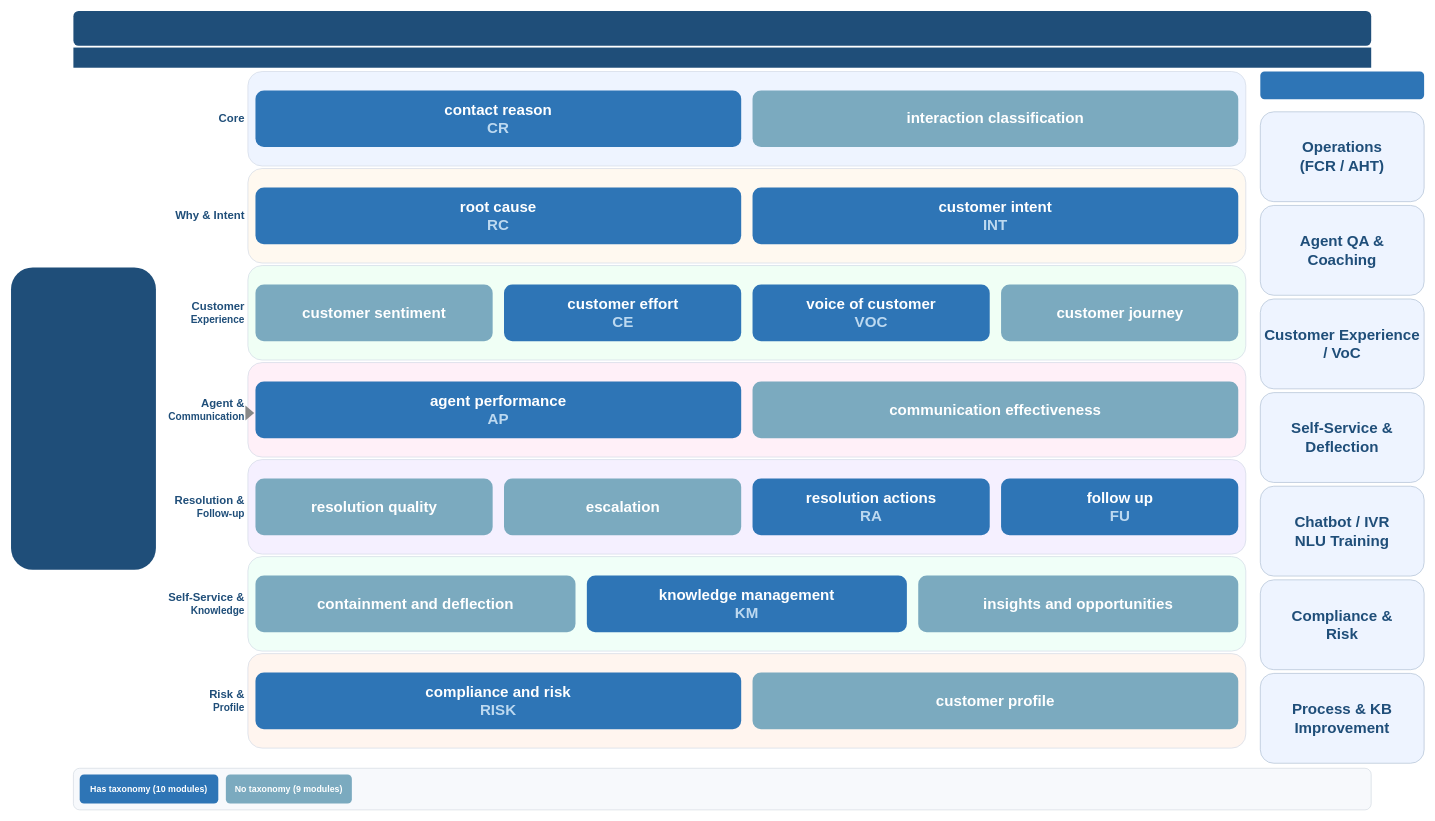
This 1435x821 diagram has some shape labels left out. The centre of each missing label's shape, as x and y in pixels:
"19 modules · 148 fields · 10 taxonomies" goes at pixel 722 57.
"Customer Support Analytics Pipeline" goes at pixel 722 28.
"INPUT Contact Transcripts CRM / ticket metadata (optional)" goes at pixel 83 418.
"Use Cases" goes at pixel 1342 85.
